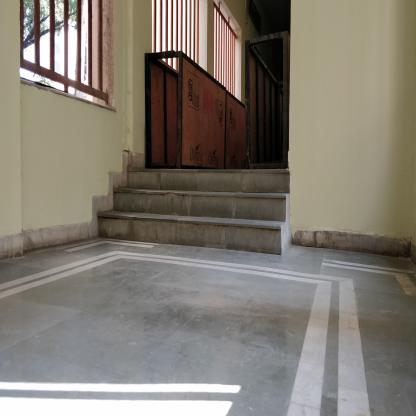stairs: (126, 167, 282, 254)
